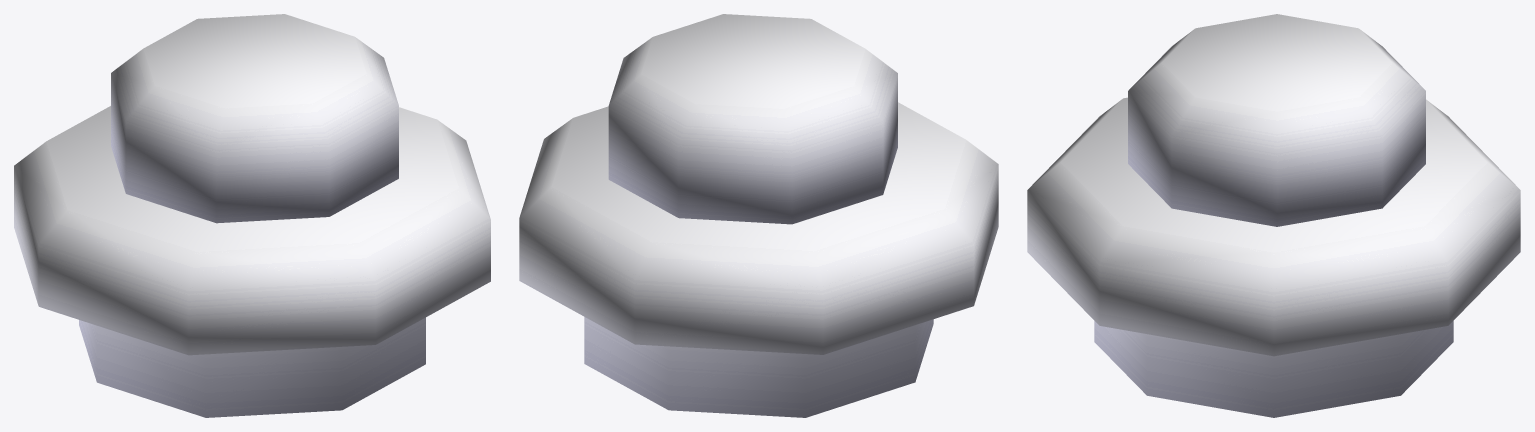
File: bevel-hq-plate-1x1-round.glb
3 renders of one model, left to right at view 1: azimuth 30°, elevation 25°; view 2: azimuth 150°, elevation 25°; view 3: azimuth 270°, elevation 25°, orthographic.
Visible parts, largest first — view 1: bevel-hq-plate-1x1-round; view 2: bevel-hq-plate-1x1-round; view 3: bevel-hq-plate-1x1-round.
Boxes of the visible parts, <box> form: bevel-hq-plate-1x1-round: <box>14,14,490,417</box>; bevel-hq-plate-1x1-round: <box>519,14,998,417</box>; bevel-hq-plate-1x1-round: <box>1027,14,1520,417</box>.
Size of the model in its own units: 0.0795 by 0.05 by 0.0795.
1 material, 1 textured.
